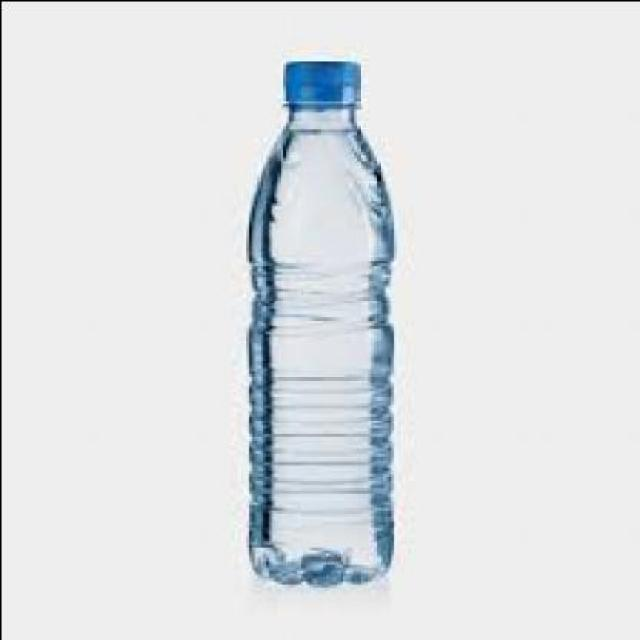PLASTIC: (247, 54, 398, 583), (284, 54, 364, 108)
